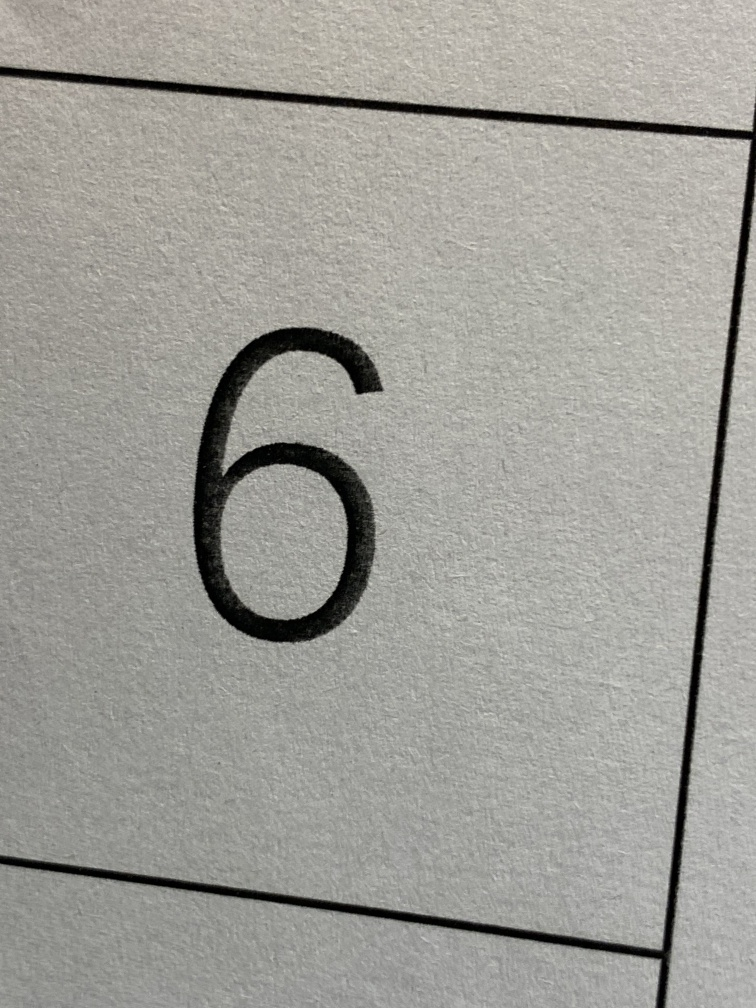six: (130, 279, 447, 684)
